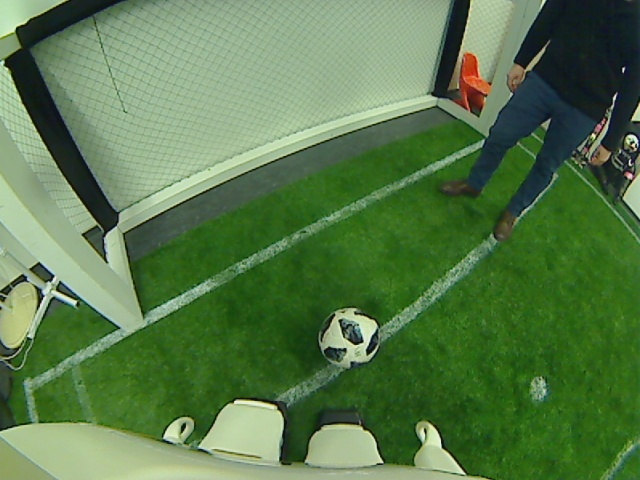ball: (317, 307, 381, 370)
